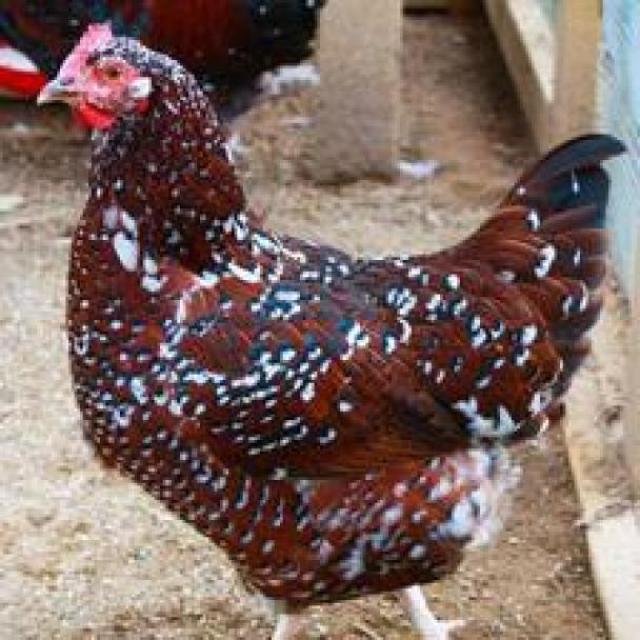Chicken: (19, 28, 640, 640)
